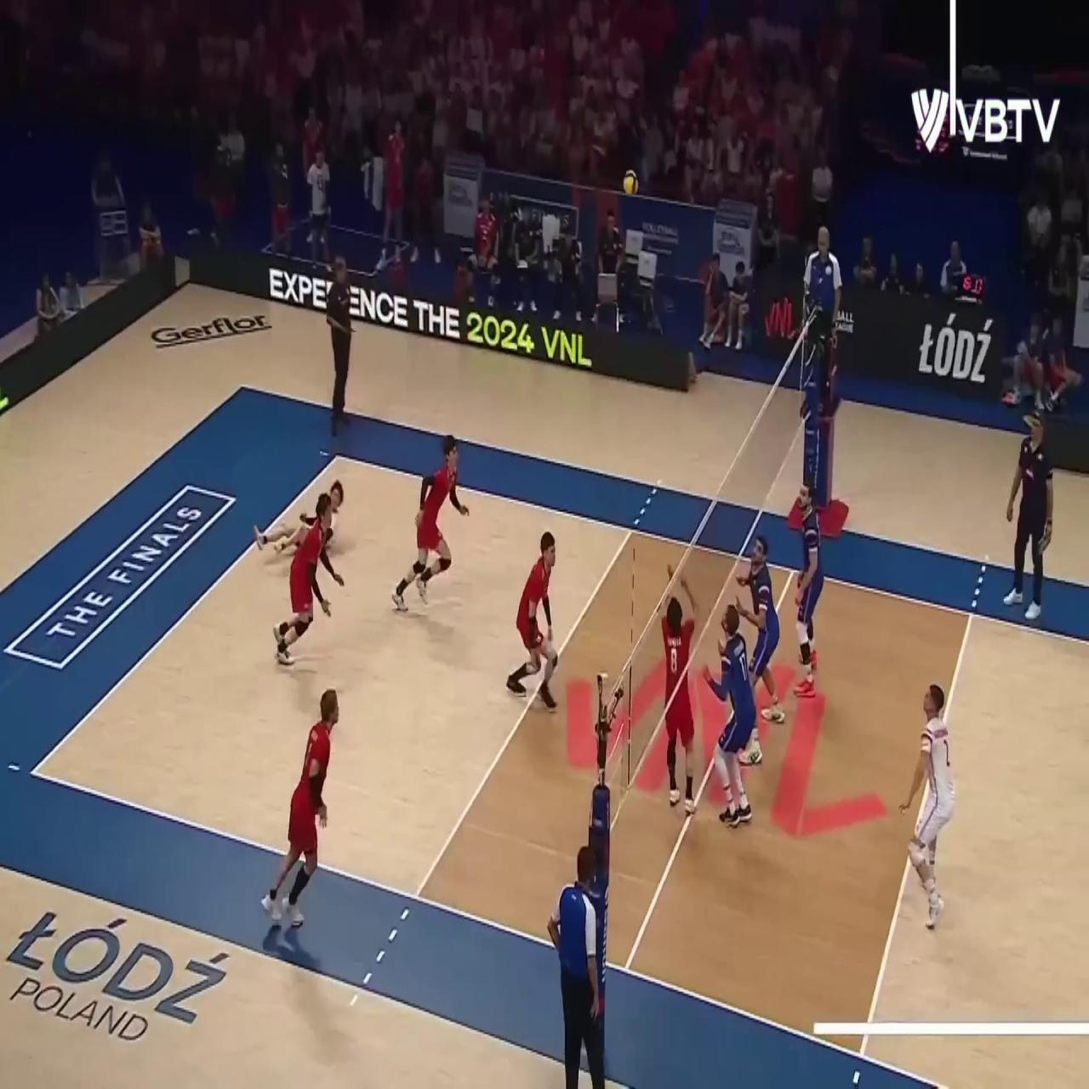ball: (623, 170, 638, 195)
